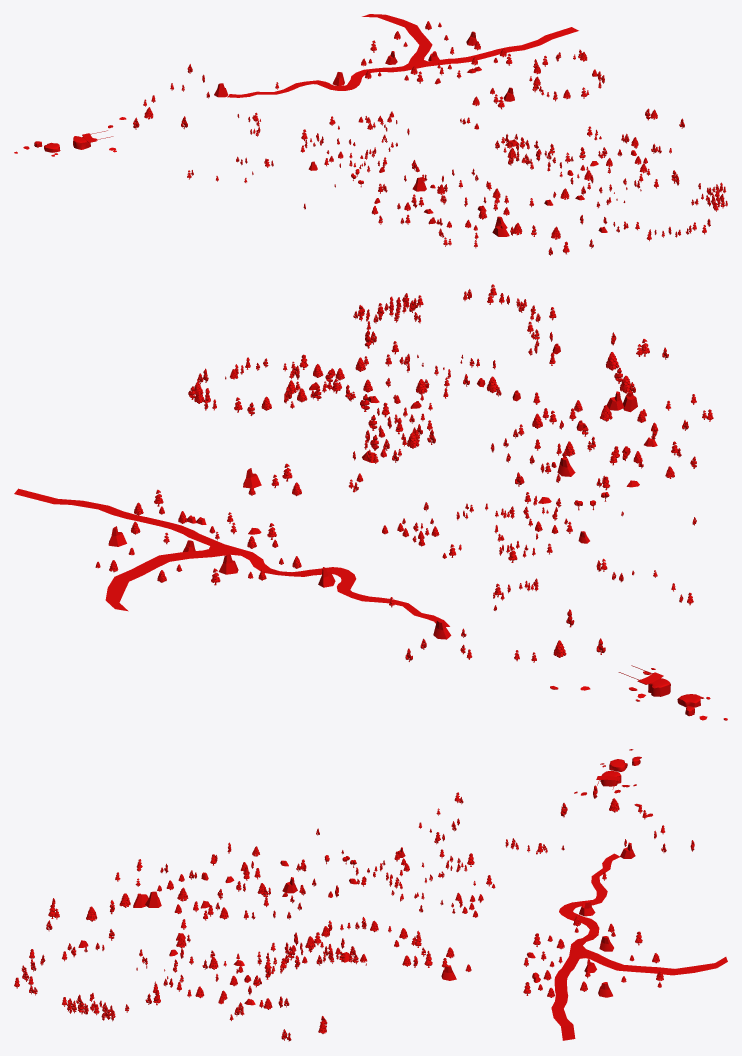
Rendered from Berg_FillerAssets_02.glb.
The picture shows the model from 3 angles, top to bottom: view 1: azimuth 30°, elevation 25°; view 2: azimuth 150°, elevation 25°; view 3: azimuth 270°, elevation 25°; orthographic projection. The views are drawn at different scales.
Parts seen in each view (by area): view 1: BeverlyChillsRoad_03; view 2: BeverlyChillsRoad_03; view 3: BeverlyChillsRoad_03.
Part boxes in pixels (x1,y1,x2,y2): BeverlyChillsRoad_03: [227, 14, 578, 97]; BeverlyChillsRoad_03: [14, 488, 449, 626]; BeverlyChillsRoad_03: [551, 853, 727, 1040].
Bounding box in the file's own units: 337 × 34.46 × 331.
